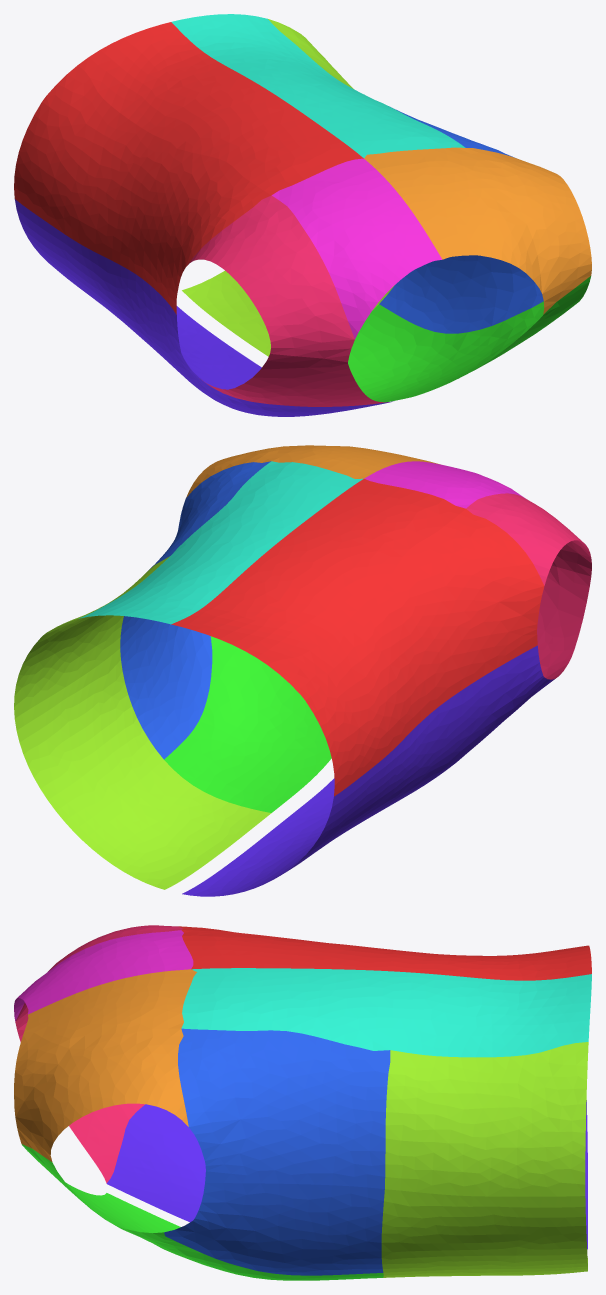
Rendered from Jacket_garmentB.obj.
The picture shows the model from 3 angles, top to bottom: view 1: azimuth 30°, elevation 25°; view 2: azimuth 150°, elevation 25°; view 3: azimuth 270°, elevation 25°; orthographic projection. The views are drawn at different scales.
Parts seen in each view (by area): view 1: Jacket_garmentB; view 2: Jacket_garmentB; view 3: Jacket_garmentB.
Part boxes in pixels (left/top/right/bottom): Jacket_garmentB: left=14, top=14, right=591, bottom=416; Jacket_garmentB: left=14, top=445, right=591, bottom=896; Jacket_garmentB: left=14, top=925, right=591, bottom=1280.
Bounding box in the file's own units: 567 × 418 × 755.
